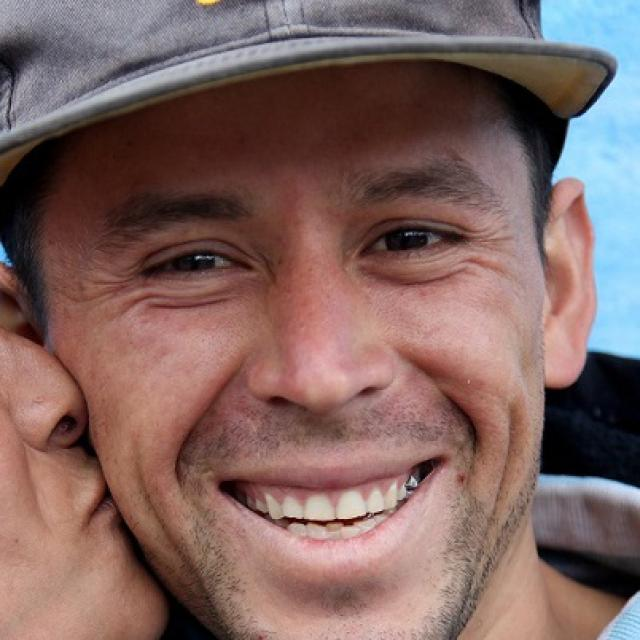Normal: (35, 65, 551, 637)
